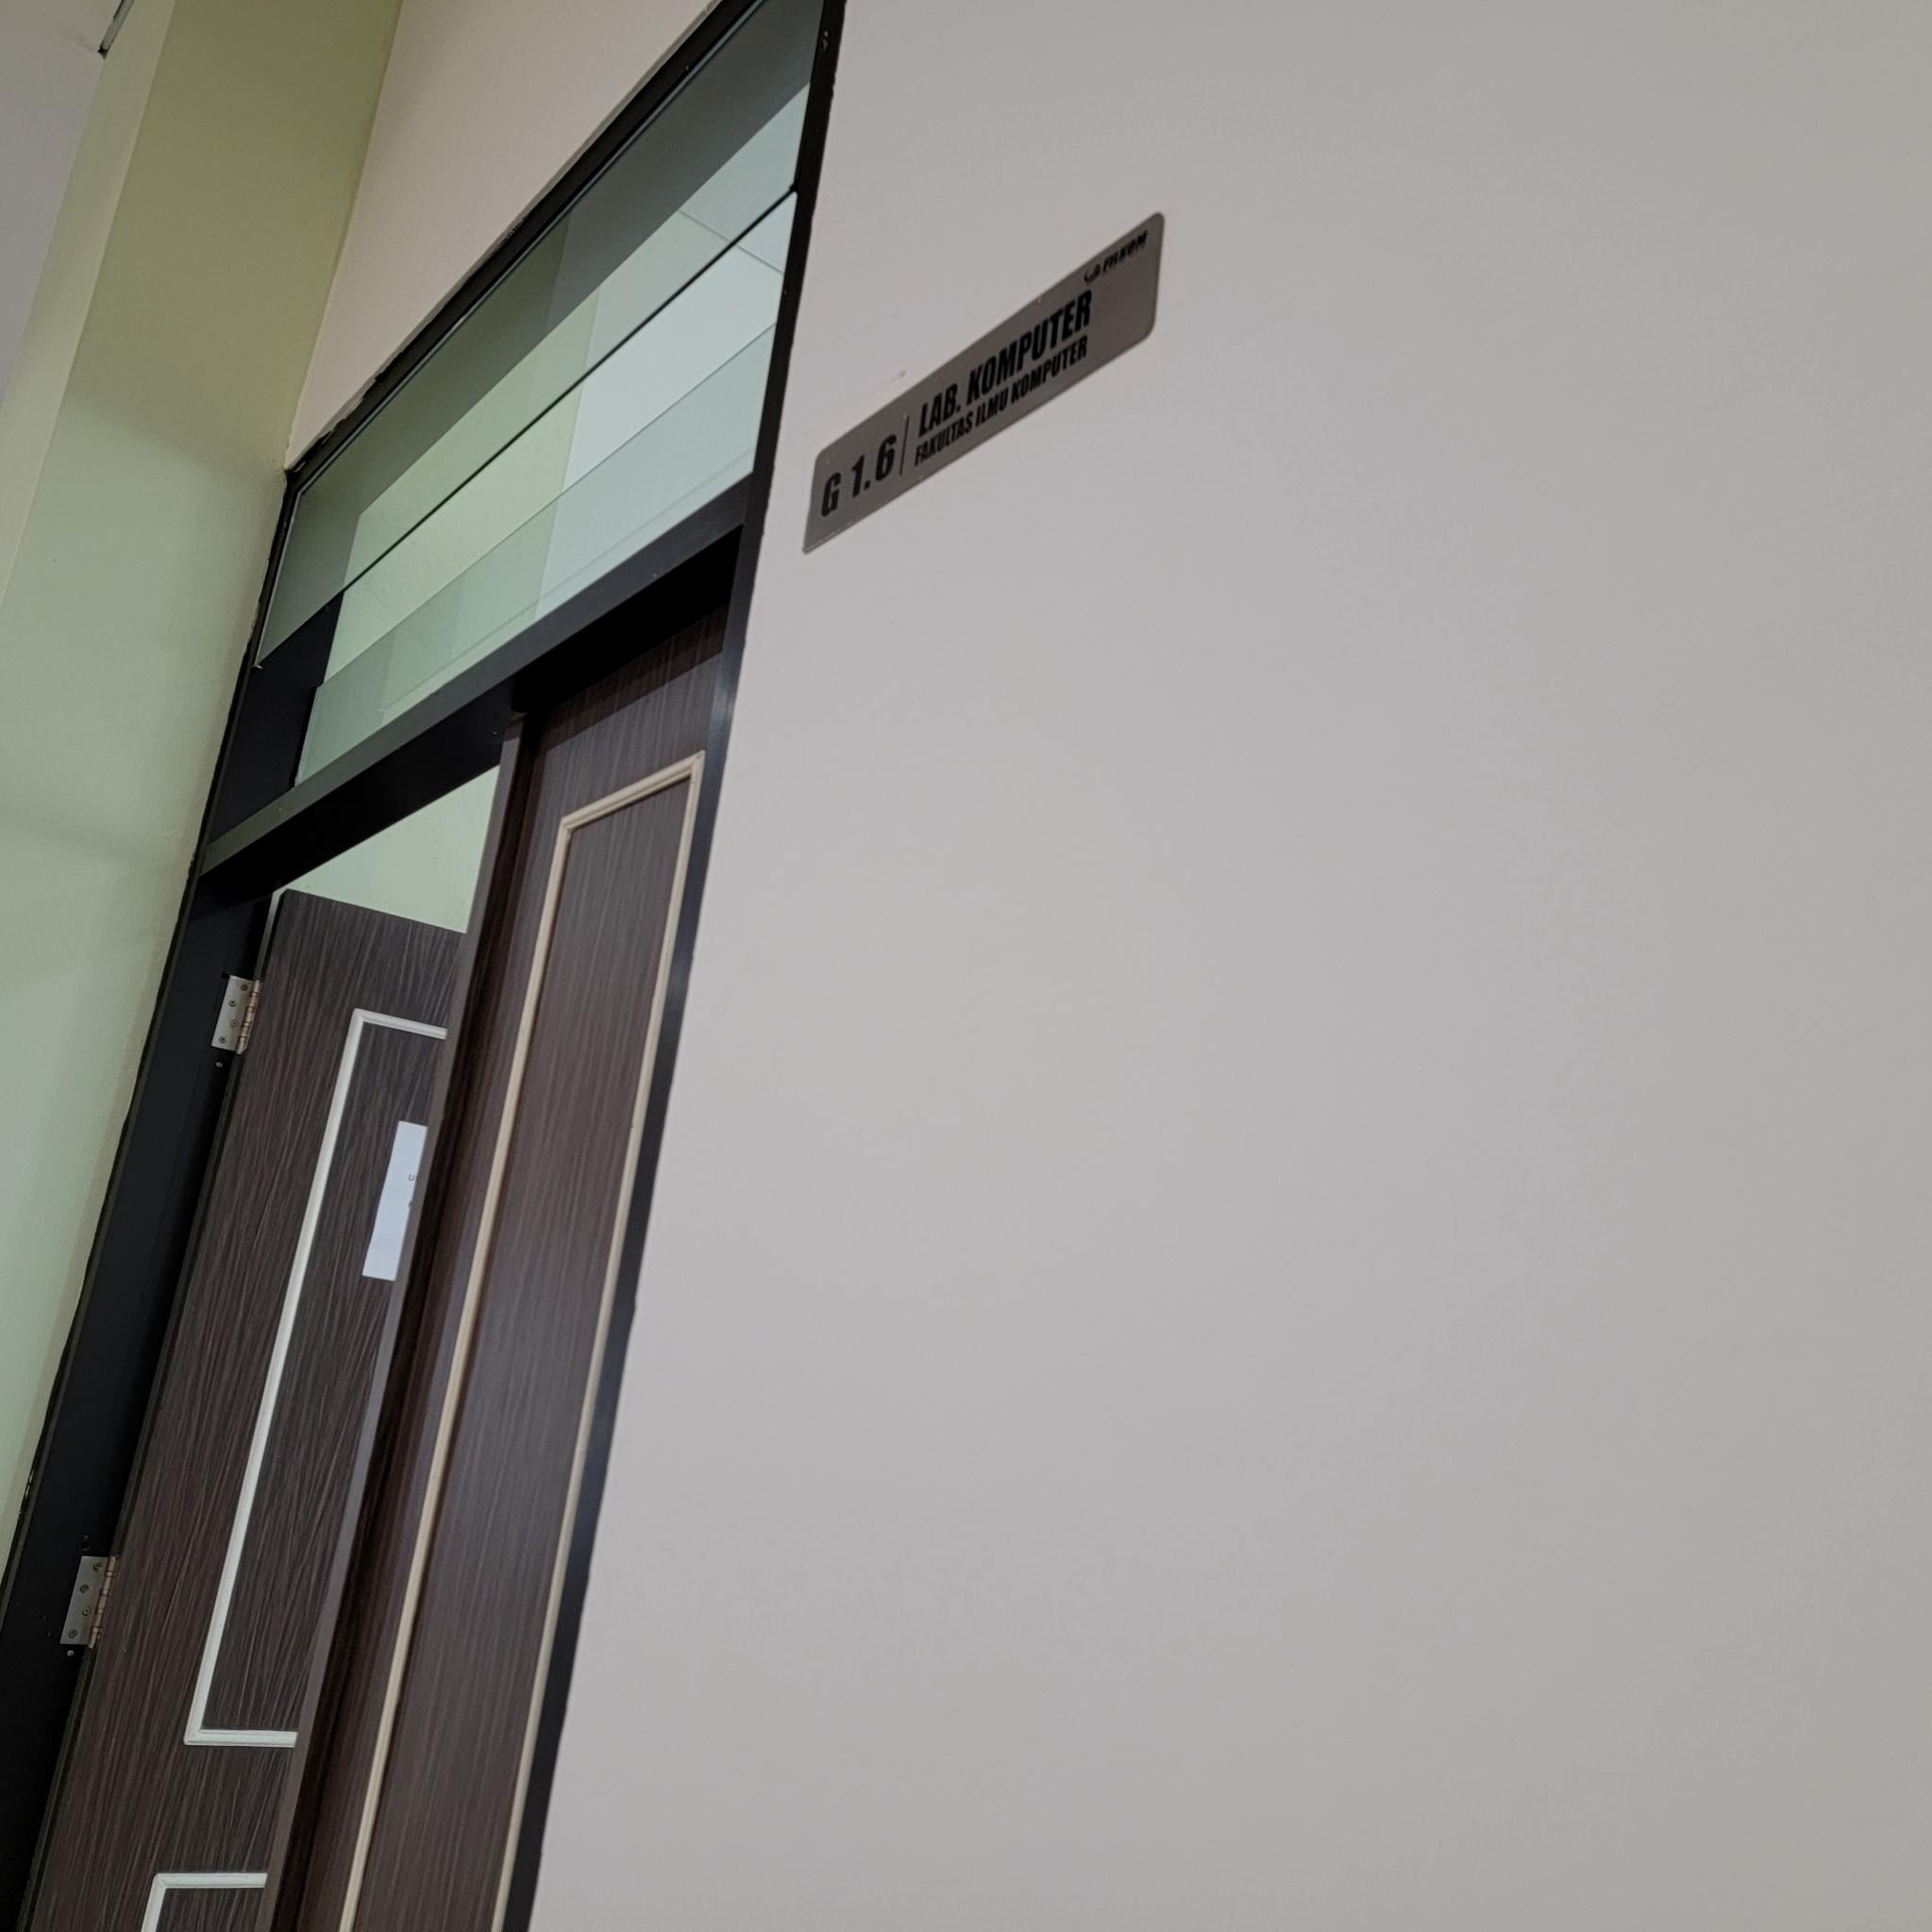plate: (801, 209, 1168, 557)
